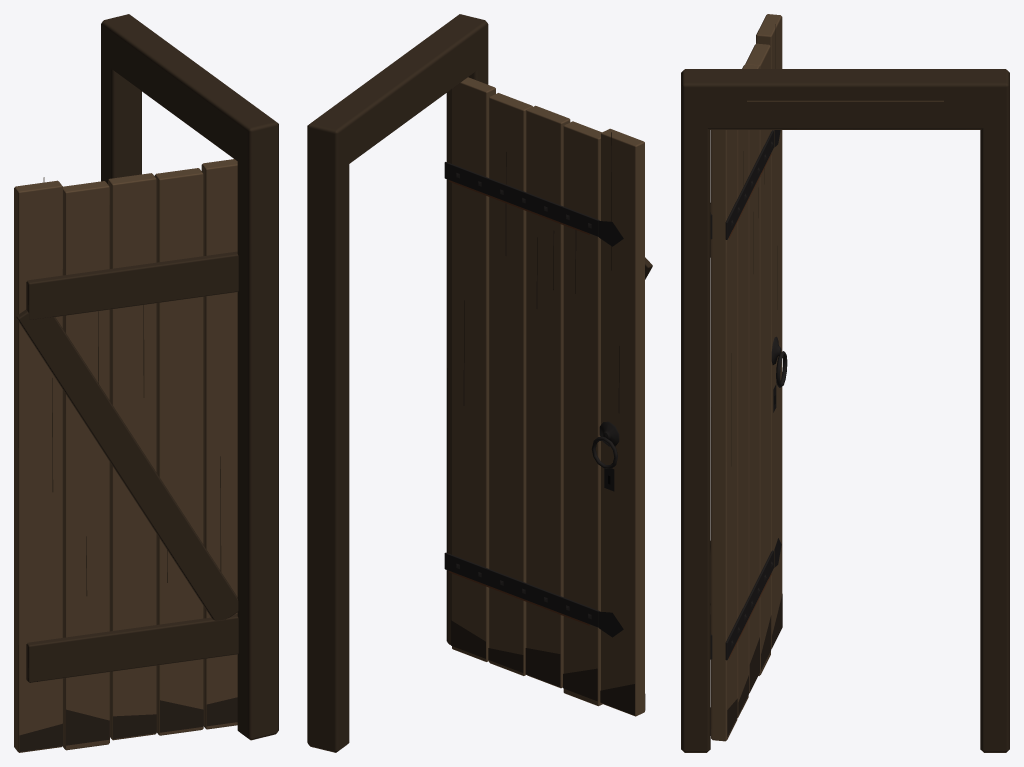
The model's file is door_old_open.glb.
3 views of the same model, side by side, from view 1: azimuth 30°, elevation 25°; view 2: azimuth 150°, elevation 25°; view 3: azimuth 270°, elevation 25° (orthographic). The views are drawn at different scales.
Parts seen in each view (by area): view 1: tuer_alt; view 2: tuer_alt; view 3: tuer_alt.
Boxes of the visible parts, left/top/right/bottom form: tuer_alt: left=14, top=14, right=278, bottom=752; tuer_alt: left=307, top=14, right=652, bottom=752; tuer_alt: left=681, top=14, right=1009, bottom=752.
Bounding box in the file's own units: 0.8719 × 2.25 × 1.
